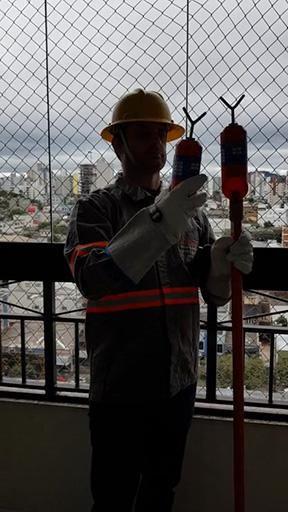Detector_Tensao_Contato: (171, 106, 208, 203), (218, 94, 250, 201)
Vara_Manobra: (228, 195, 246, 512)
